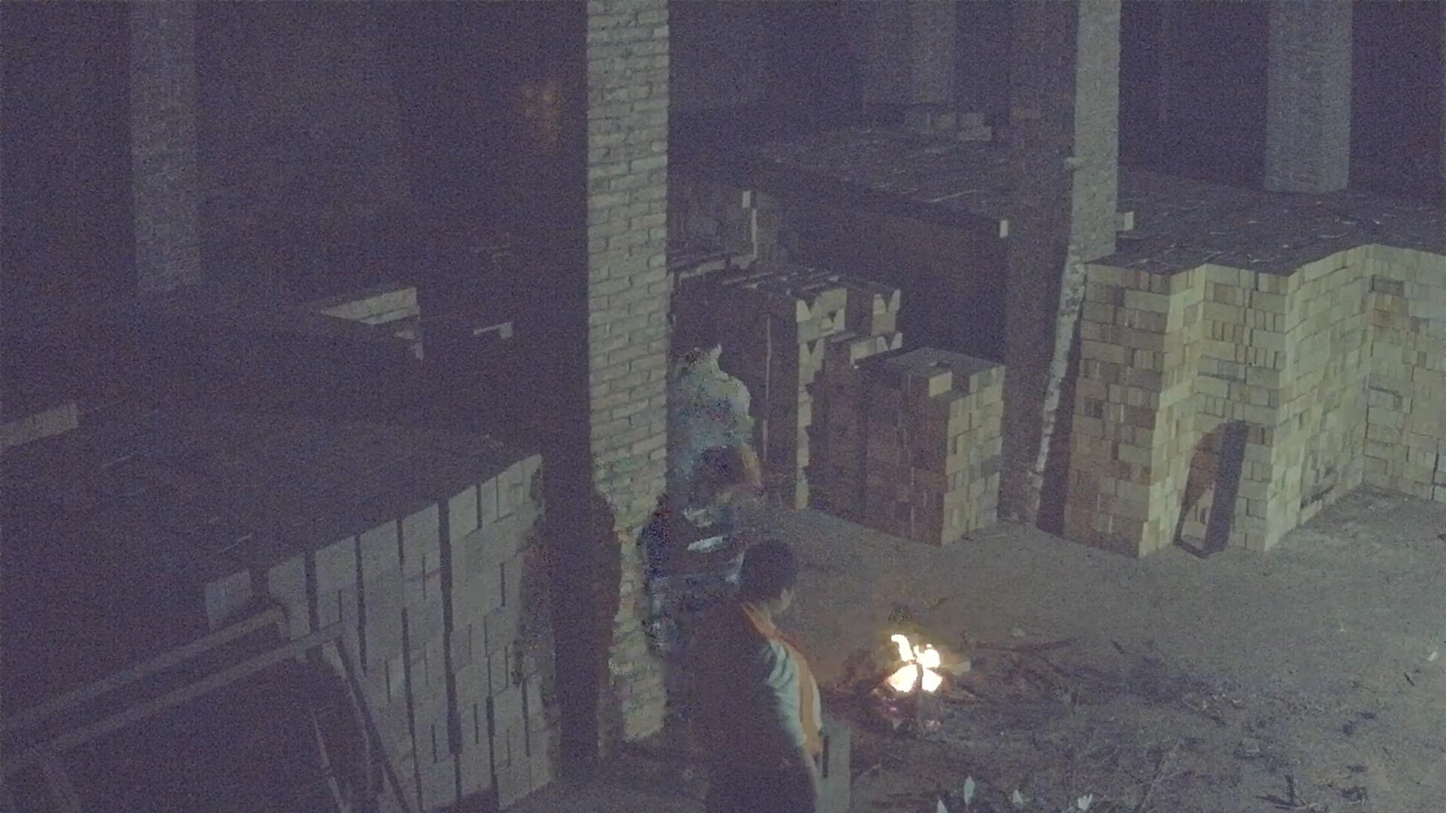fire: (887, 635, 943, 693)
